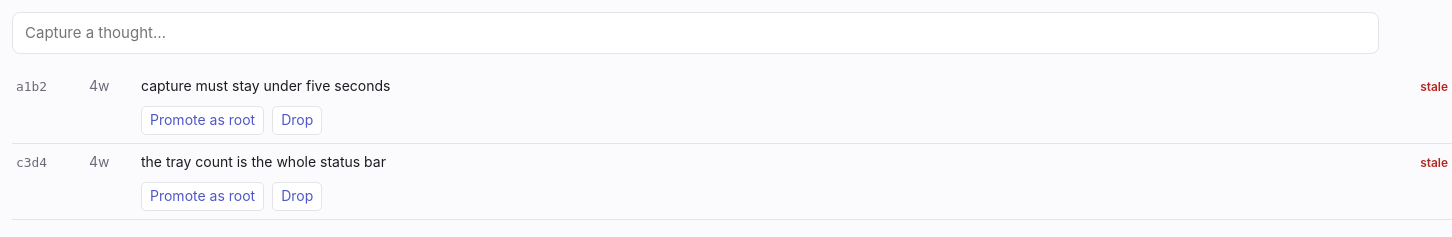
Test: InboxView › a settle outside a git repository refreshes the list and reports the missing commit
Expected: the text "a1b2" is shown, [16,79,47,94]
What coordinates should you click on to do the following:
click the button "Drop" below "a1b2"
I would click on:
 (297, 121)
Its box is [272,106,322,135].
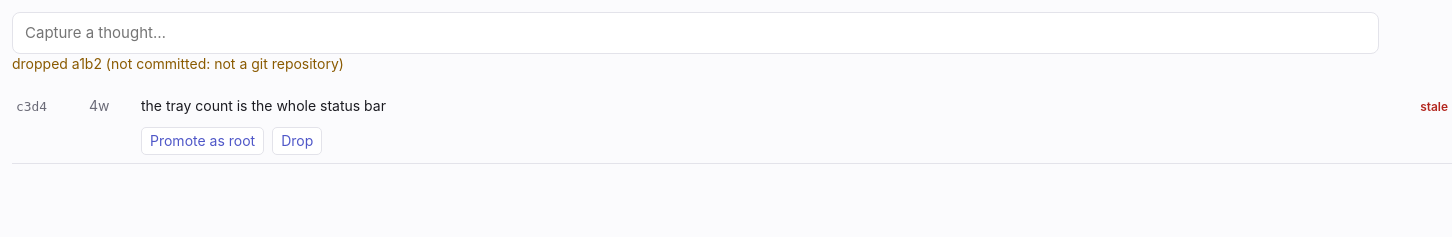
Expected: the text "dropped a1b2 (not committed: not a git repository)" is shown, [12,55,344,72]
